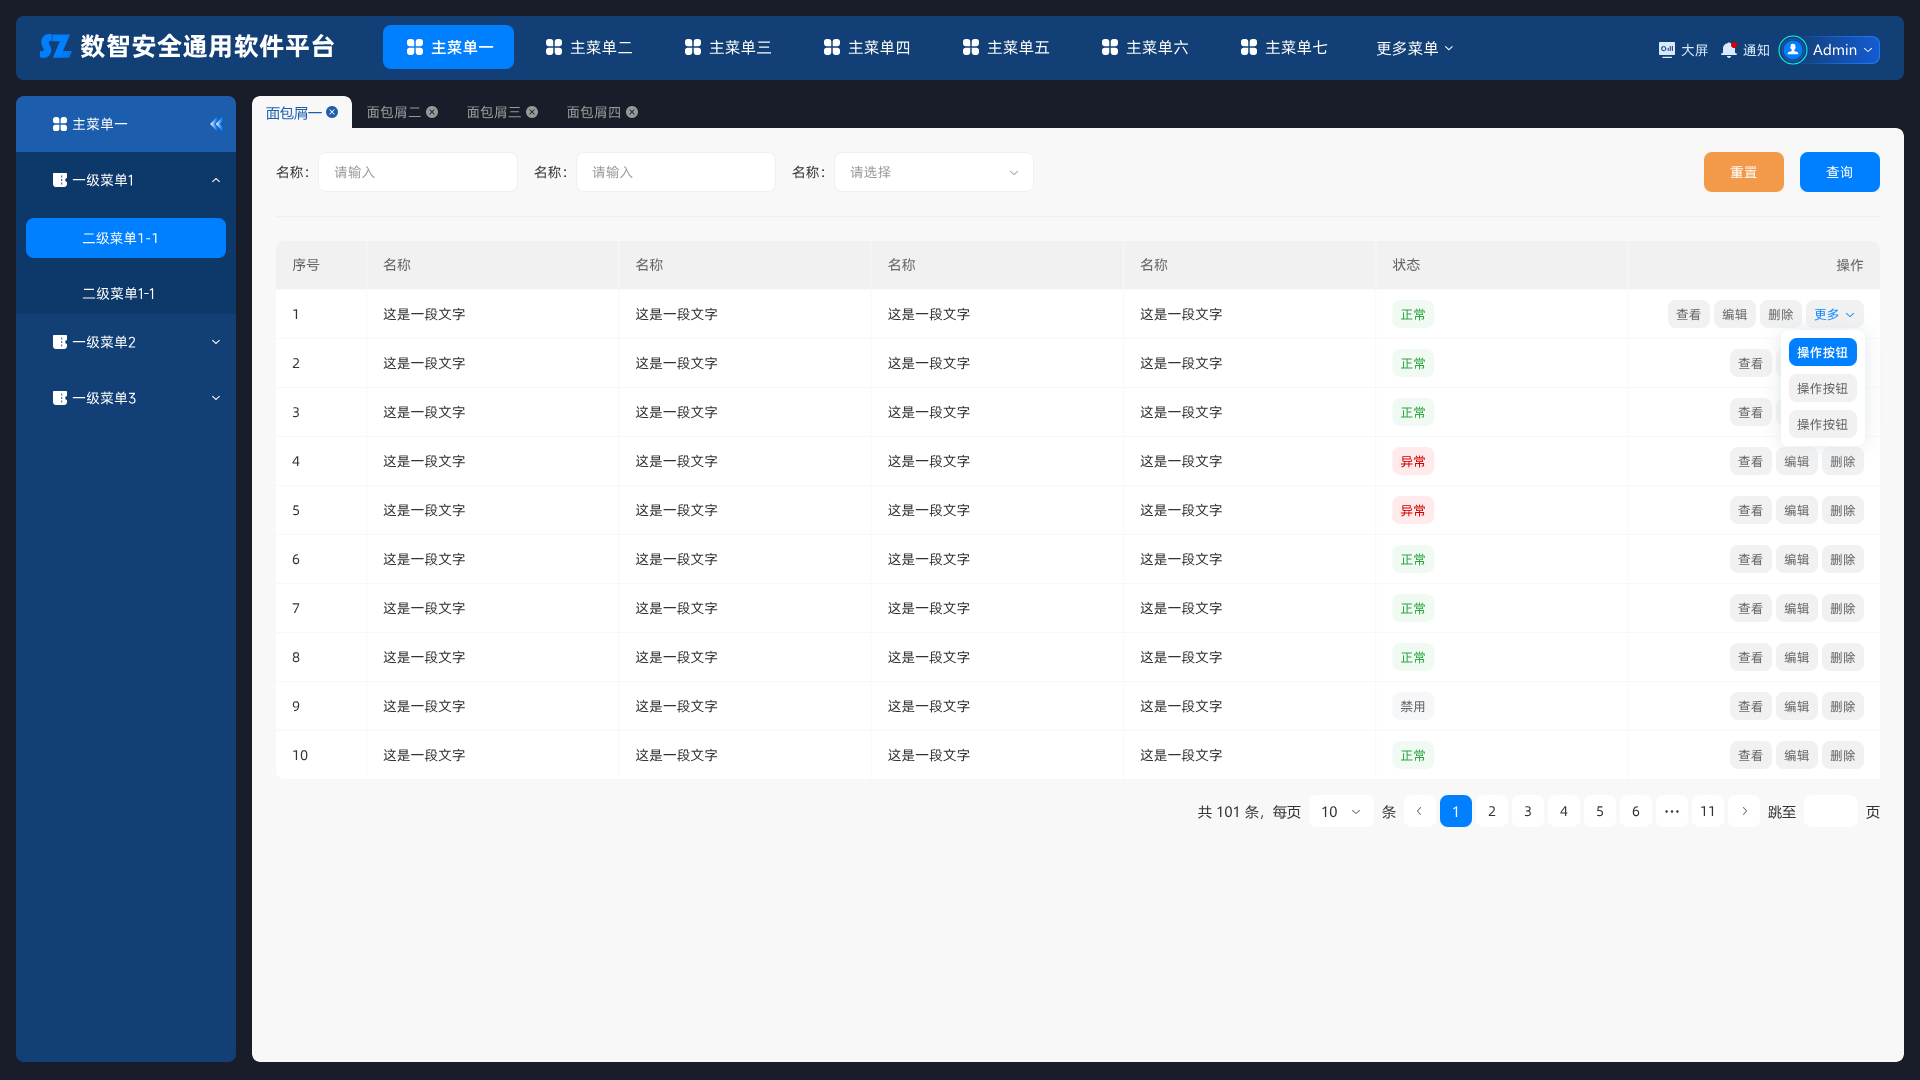label-input-input: (316, 145, 522, 199), (574, 148, 778, 195), (833, 148, 1038, 195)
label-input-label: (791, 156, 828, 187), (534, 158, 574, 186), (273, 158, 313, 182)
query-btn: (1795, 146, 1886, 200)
reset-btn: (1701, 145, 1788, 202), (1615, 965, 1779, 969)
table: (272, 235, 1895, 844)
